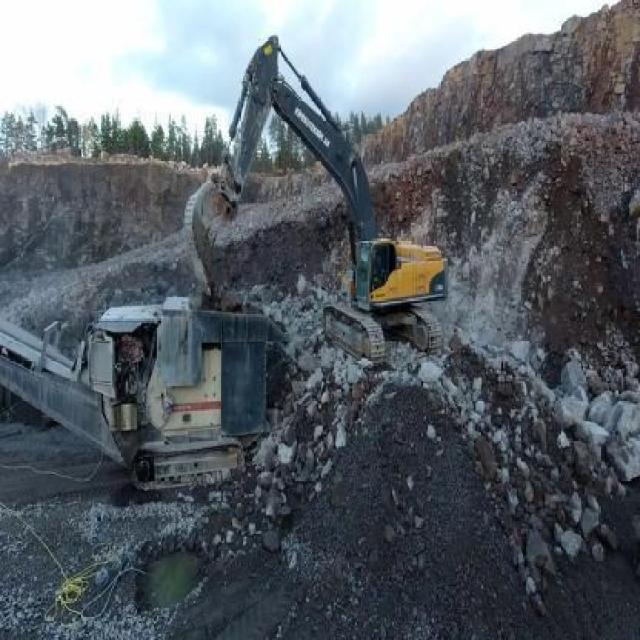excavator: (182, 29, 447, 358)
